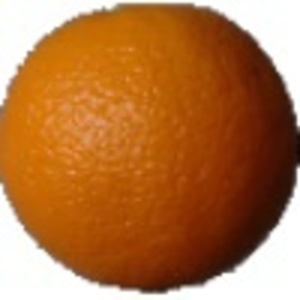laranja: (3, 4, 298, 295)
